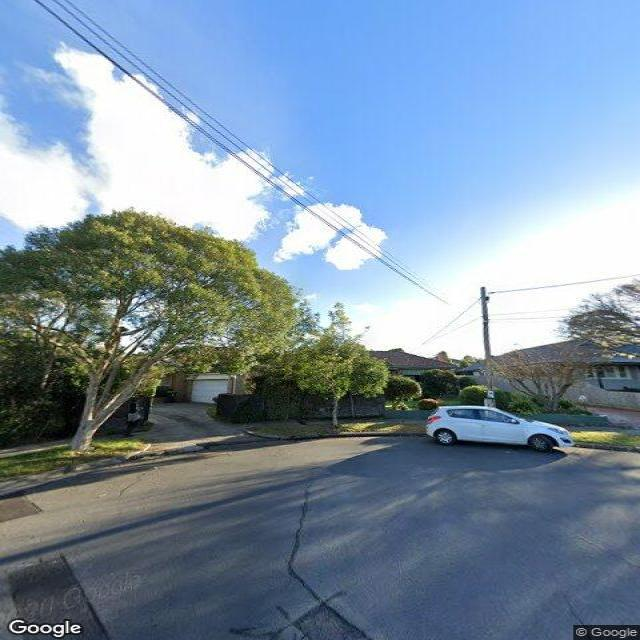timber-pole: (480, 286, 496, 407)
